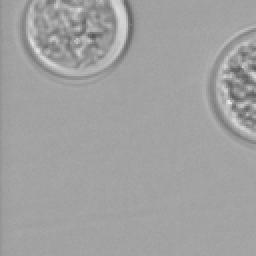picoshell: (22, 0, 132, 82), (208, 26, 254, 142)
